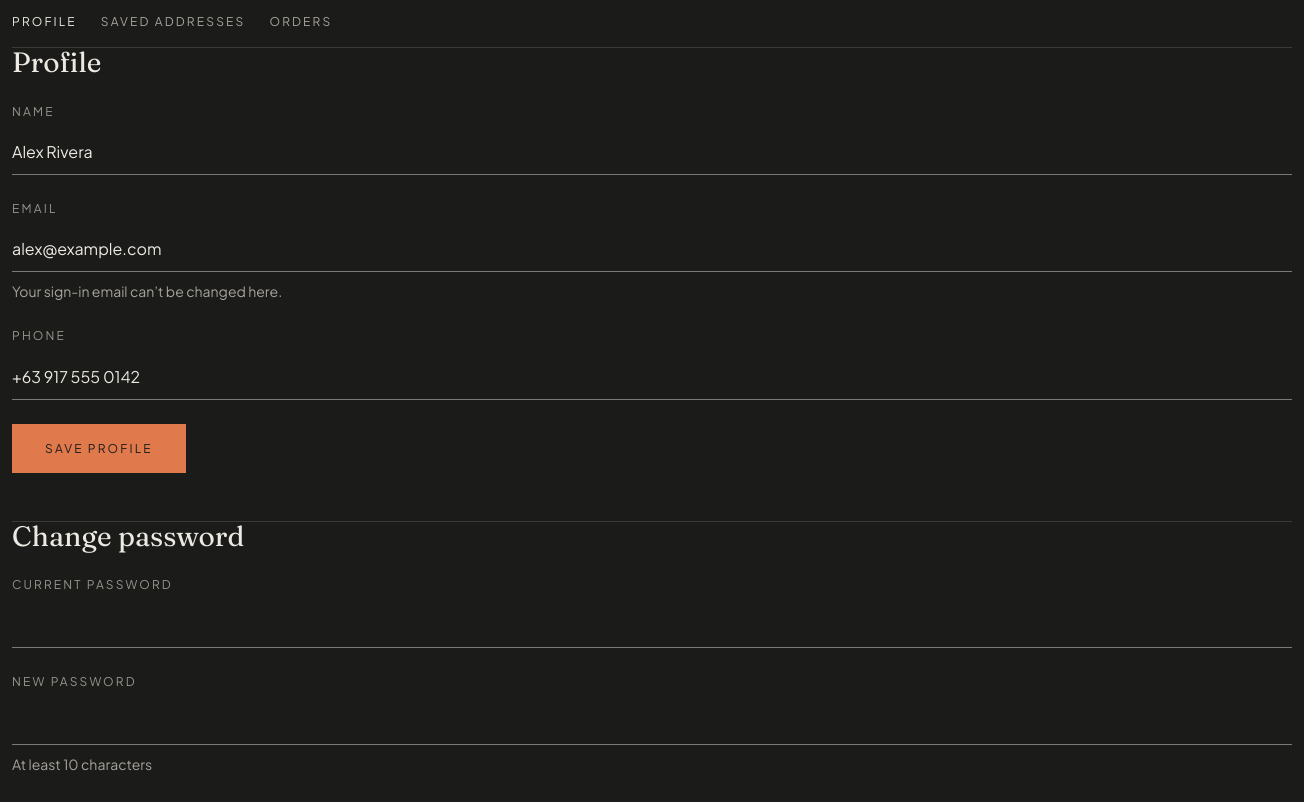
Test: AccountOverview › links the account pages and saves profile changes, with the email read-only
This screenshot has width=1304, height=802.
Expected: the heading "Profile" is shown, [12,45,101,79]
Expected: the field labelled "Email" is disabled, [12,226,1292,272]
Replace the text in the field labelled "Phone" with "abc" at (652, 376), box [12,354,1292,400]
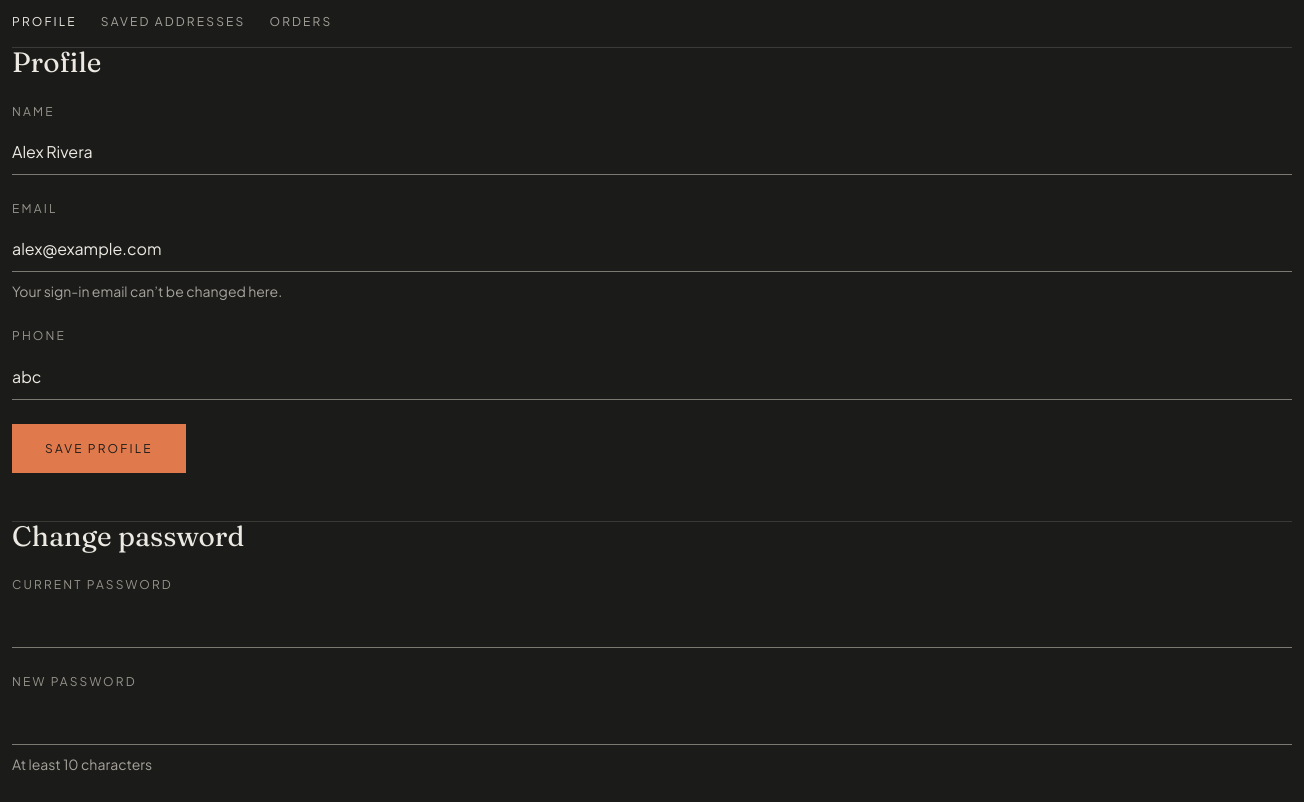
Leave the field labelled "Phone", box [12,354,1292,400]
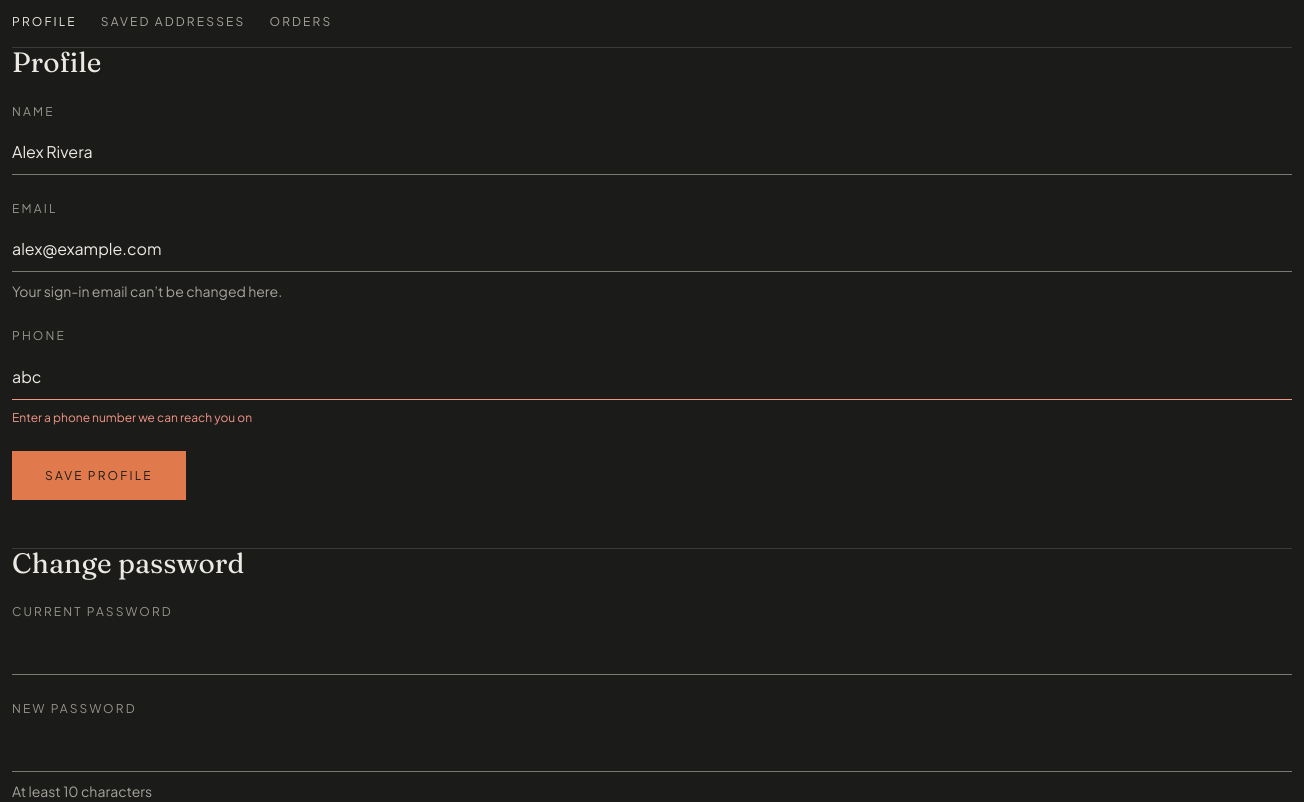
Expected: the text "Enter a phone number we can reach you on" is shown, [12,410,252,424]
Replace the text in the field labelled "Phone" with "+63 917 555 0199" at (652, 376), box [12,354,1292,400]
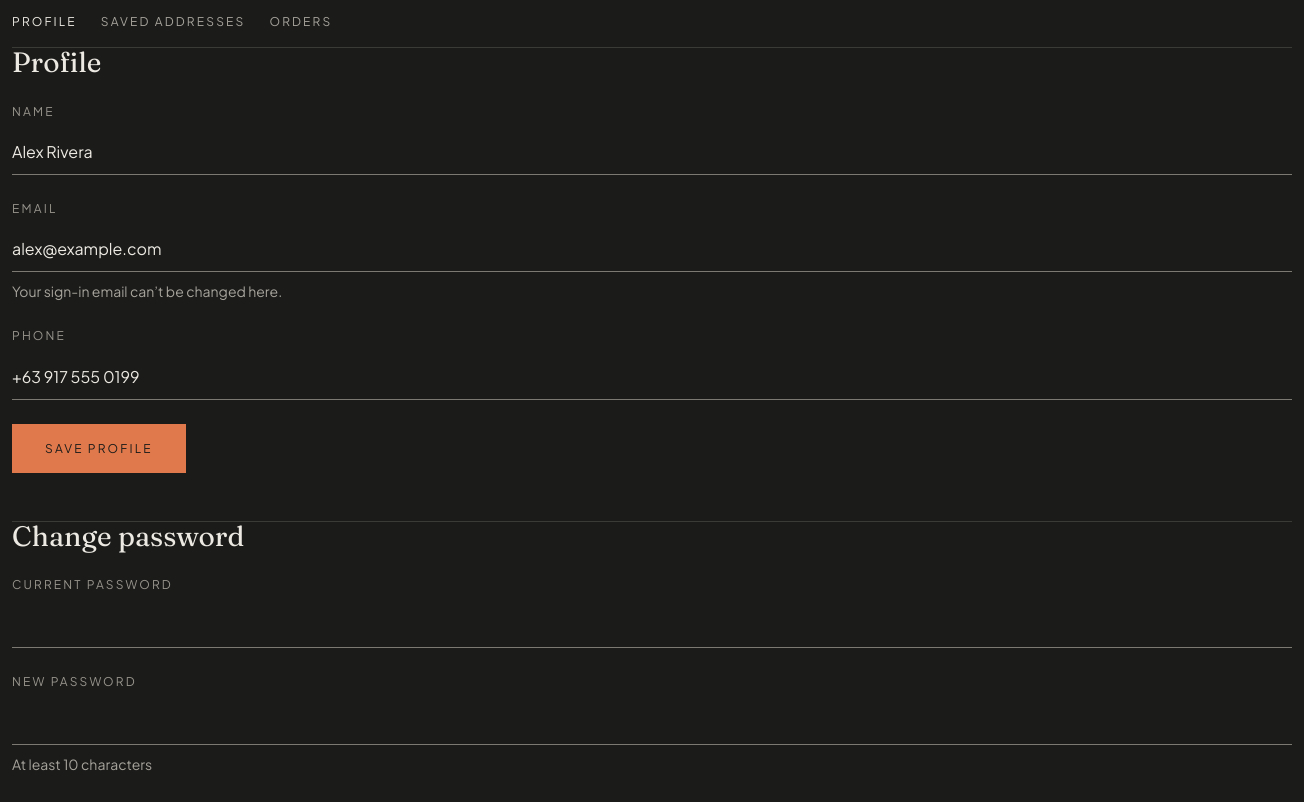
Click the button "Save profile" at (99, 448), box [12,424,186,472]
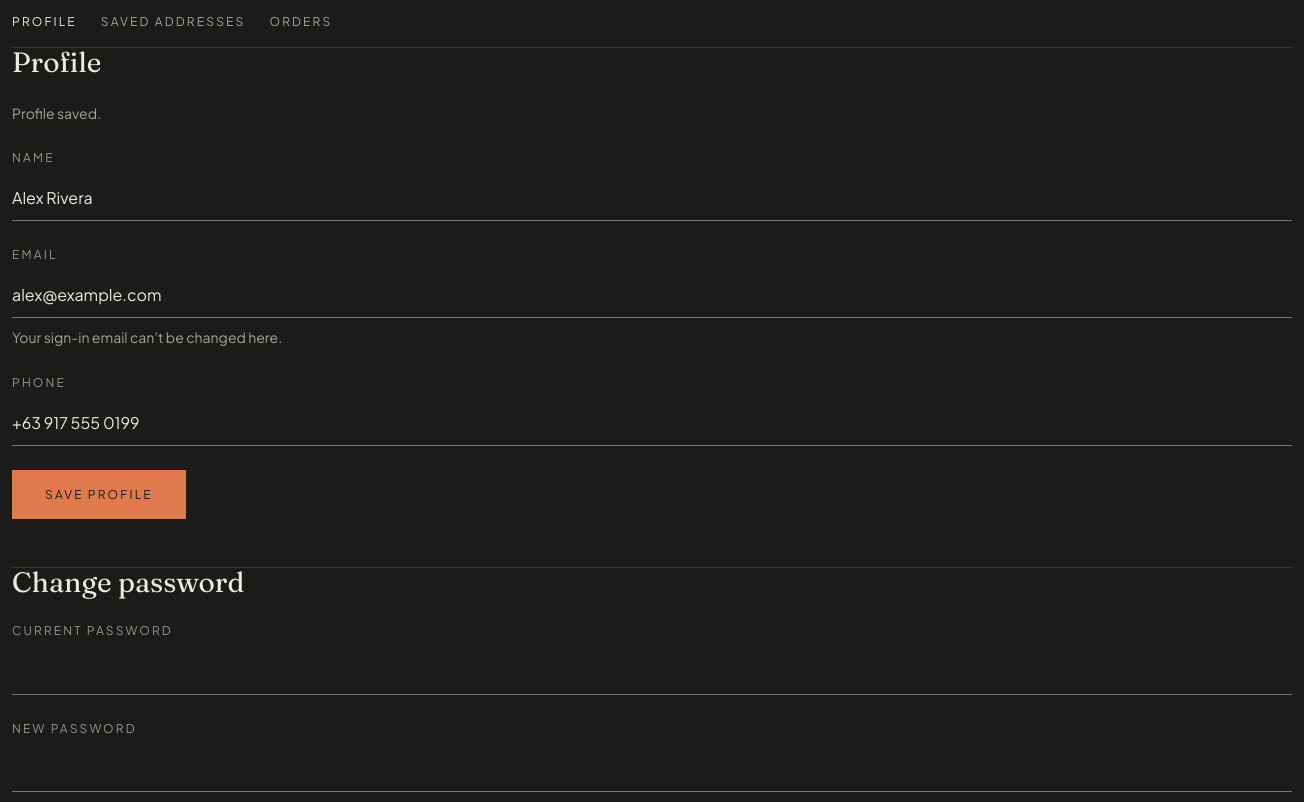
Expected: the text "Profile saved." is shown, [12,104,101,122]
